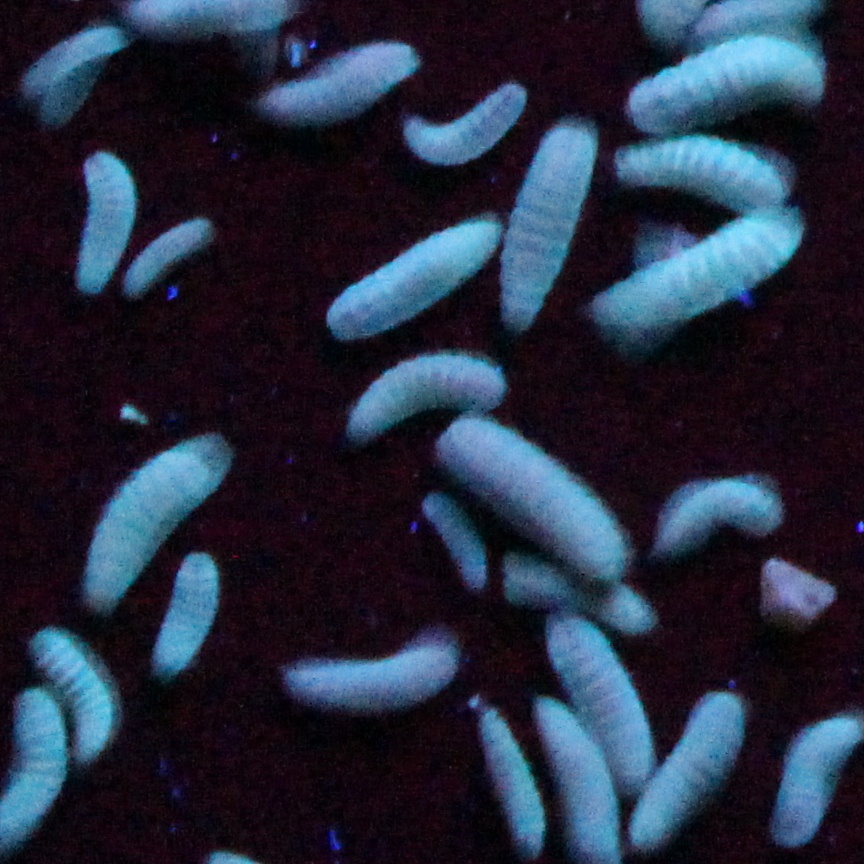larve: (422, 425, 633, 579), (593, 225, 807, 345), (88, 439, 227, 602), (479, 119, 582, 328), (319, 219, 487, 342), (633, 702, 742, 842), (619, 48, 822, 122), (342, 359, 519, 442), (556, 630, 648, 782), (276, 642, 450, 716), (465, 705, 547, 859), (267, 42, 405, 130), (765, 716, 853, 850), (602, 130, 765, 202), (67, 145, 133, 299), (668, 476, 782, 556), (399, 96, 539, 156), (39, 25, 119, 130), (142, 562, 213, 676), (39, 630, 108, 745), (119, 225, 222, 293)
